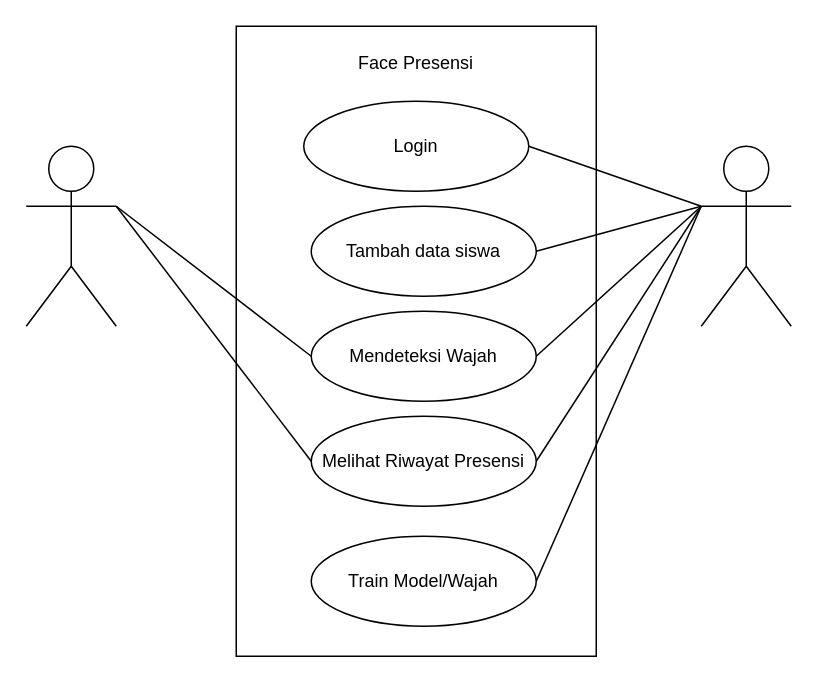
The diagram is 818 pixels wide and 683 high, and some of its shapes have lost their labels. Each missing label, with the centre of its shape:
"Admin" goes at (745,235).
"Siswa" goes at (70,235).
